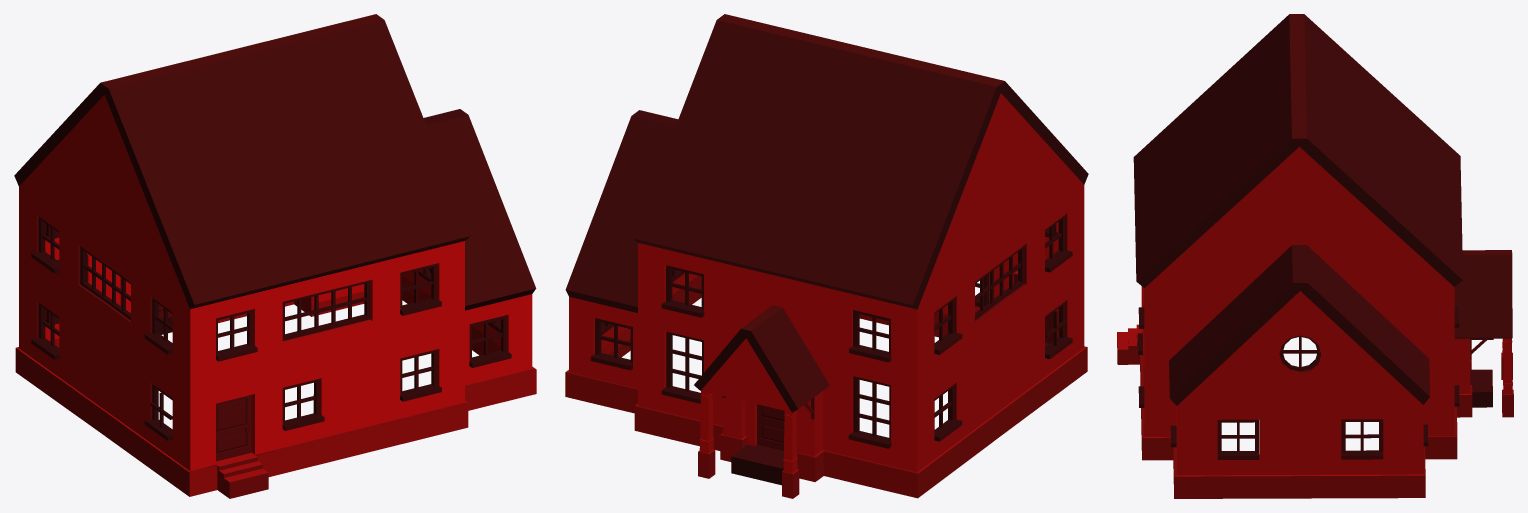
3 views of the same model, side by side, from view 1: azimuth 30°, elevation 25°; view 2: azimuth 150°, elevation 25°; view 3: azimuth 270°, elevation 25° (orthographic). The views are drawn at different scales.
Visible parts, largest first — view 1: base.166; view 2: base.166; view 3: base.166.
Part boxes in pixels (bbox=[...]): base.166: bbox=[14, 14, 536, 498]; base.166: bbox=[565, 14, 1088, 498]; base.166: bbox=[1117, 14, 1513, 498].
Bounding box in the file's own units: 1447 × 1448 × 1292.
